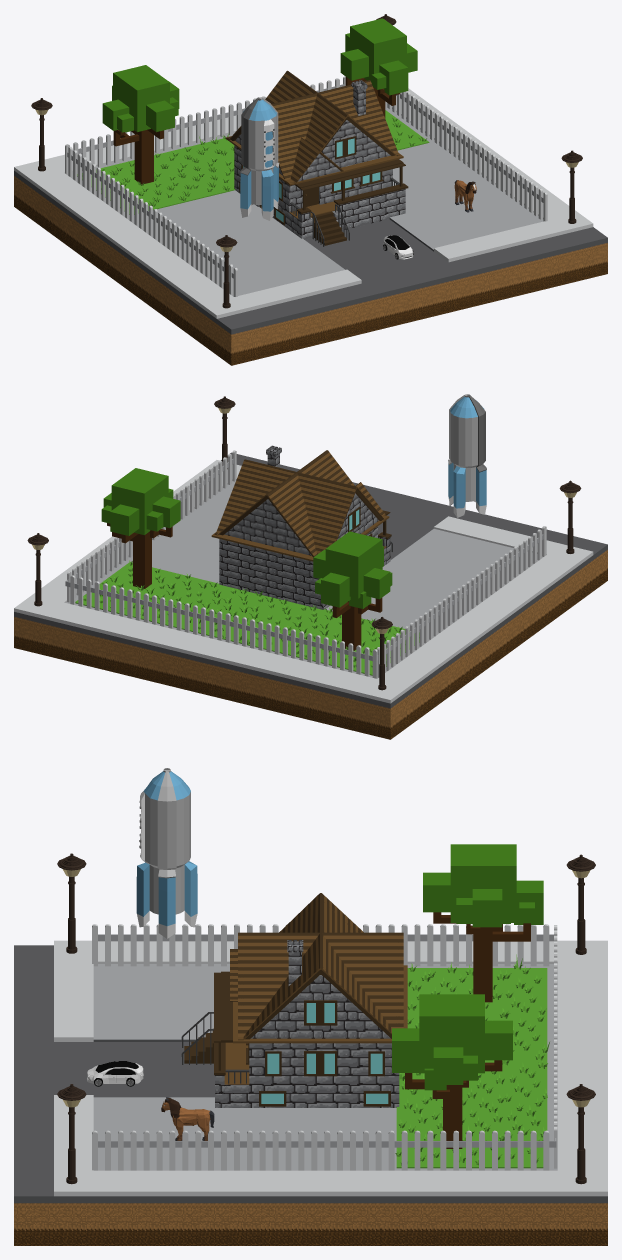
3 views of the same model, one above another, from view 1: azimuth 30°, elevation 25°; view 2: azimuth 150°, elevation 25°; view 3: azimuth 270°, elevation 25° (orthographic). The views are drawn at different scales.
Parts seen in each view (by area): view 1: Cube.004, Cube.586, OBJRANDOM_ROCKETSHIP, VEHICLES_TESLA, ANIMAL_CABALLO; view 2: Cube.004, Cube.586, OBJRANDOM_ROCKETSHIP; view 3: Cube.004, Cube.586, OBJRANDOM_ROCKETSHIP, VEHICLES_TESLA, ANIMAL_CABALLO.
Boxes of the visible parts, x1=… form: Cube.004: x1=14, y1=14, x2=607, y2=365; Cube.586: x1=226, y1=70, x2=408, y2=246; OBJRANDOM_ROCKETSHIP: x1=240, y1=97, x2=279, y2=220; VEHICLES_TESLA: x1=383, y1=235, x2=413, y2=259; ANIMAL_CABALLO: x1=454, y1=180, x2=476, y2=212; Cube.004: x1=14, y1=396, x2=607, y2=739; Cube.586: x1=211, y1=445, x2=392, y2=609; OBJRANDOM_ROCKETSHIP: x1=448, y1=394, x2=486, y2=517; Cube.004: x1=14, y1=844, x2=607, y2=1245; Cube.586: x1=181, y1=893, x2=407, y2=1107; OBJRANDOM_ROCKETSHIP: x1=136, y1=768, x2=197, y2=938; VEHICLES_TESLA: x1=87, y1=1061, x2=143, y2=1086; ANIMAL_CABALLO: x1=161, y1=1097, x2=214, y2=1140.
Bounding box in the file's own units: 4000 × 2169 × 4000.
Materials: 33 (4 with a texture image).
